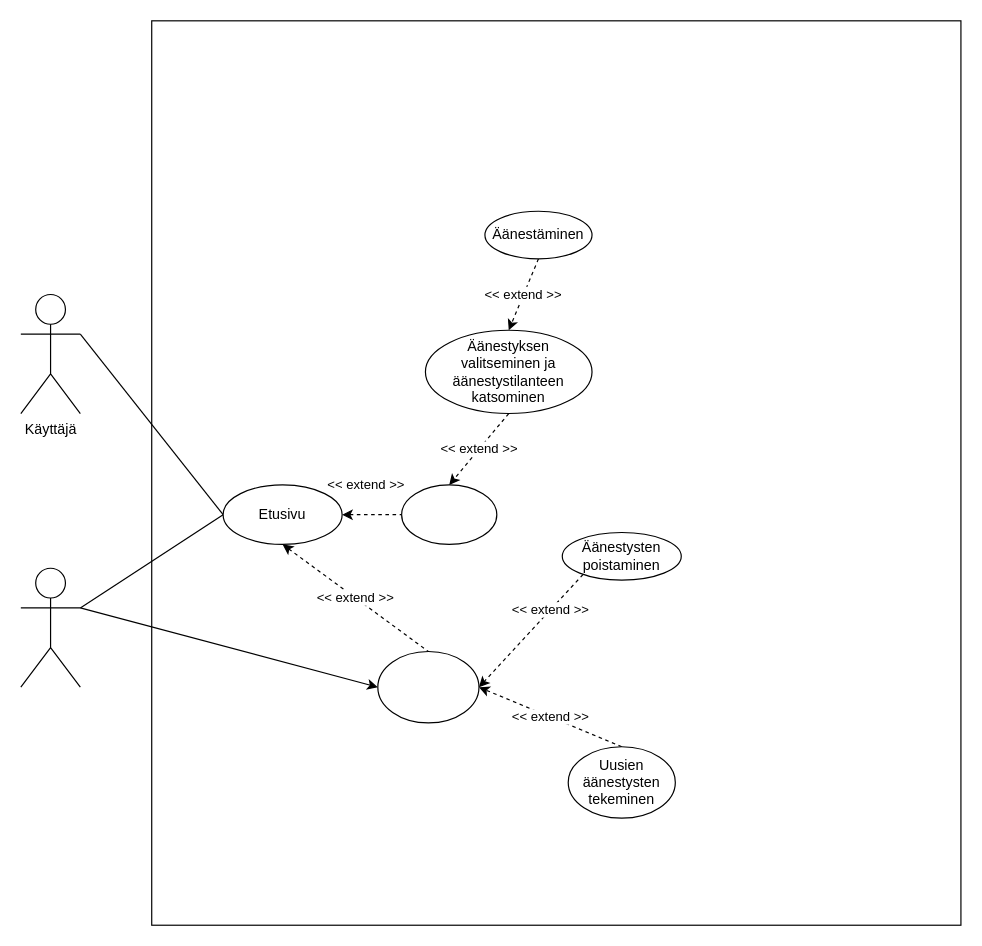
Some shapes in this 982 by 946 pixel diagram are drawn without their labels. The shapes that lost their labels are listed below. From the top down, each one's box as (x1, y1, x2, y2) in pixels, then its label:
(400, 484, 497, 544): Äänestysten selailu
(20, 567, 80, 687): Ylläpitäjä
(377, 650, 479, 723): Kirjautuminen
